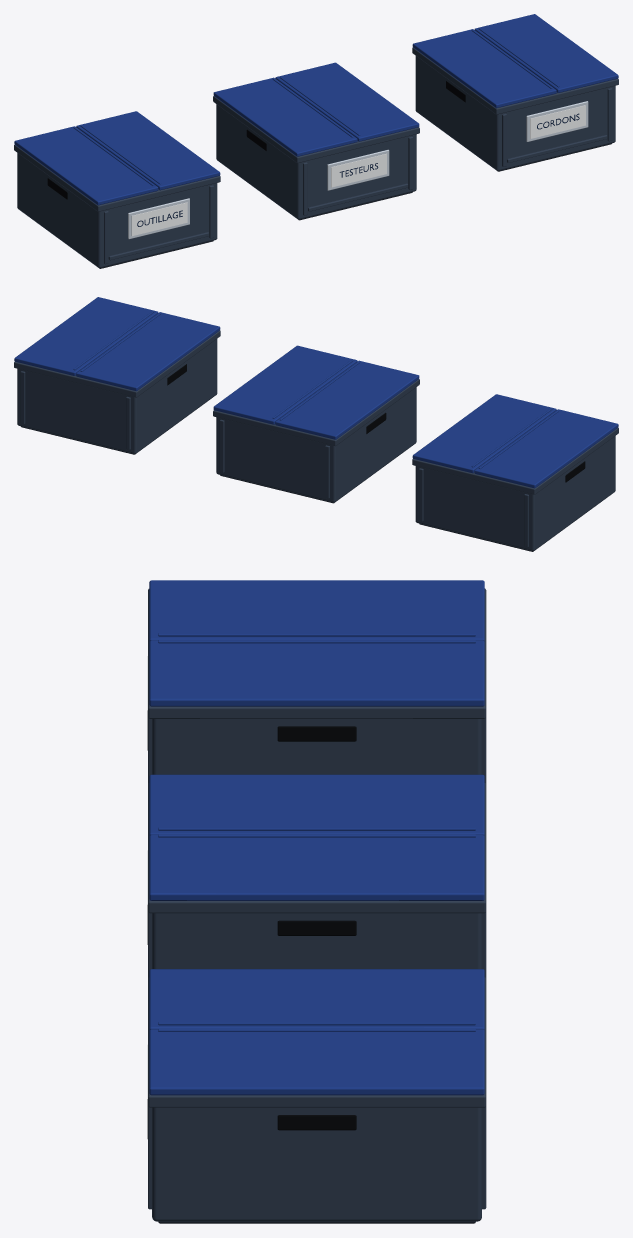
Rendered from bench-crates.glb.
The picture shows the model from 3 angles, top to bottom: view 1: azimuth 30°, elevation 25°; view 2: azimuth 150°, elevation 25°; view 3: azimuth 270°, elevation 25°; orthographic projection. The views are drawn at different scales.
Visible parts, largest first — view 1: BenchCrates; view 2: BenchCrates; view 3: BenchCrates.
Boxes of the visible parts, left/top/right/bottom form: BenchCrates: left=14, top=14, right=618, bottom=268; BenchCrates: left=14, top=297, right=618, bottom=551; BenchCrates: left=147, top=580, right=486, bottom=1223.
Bounding box in the file's own units: 1.78 × 0.233 × 0.5018.
